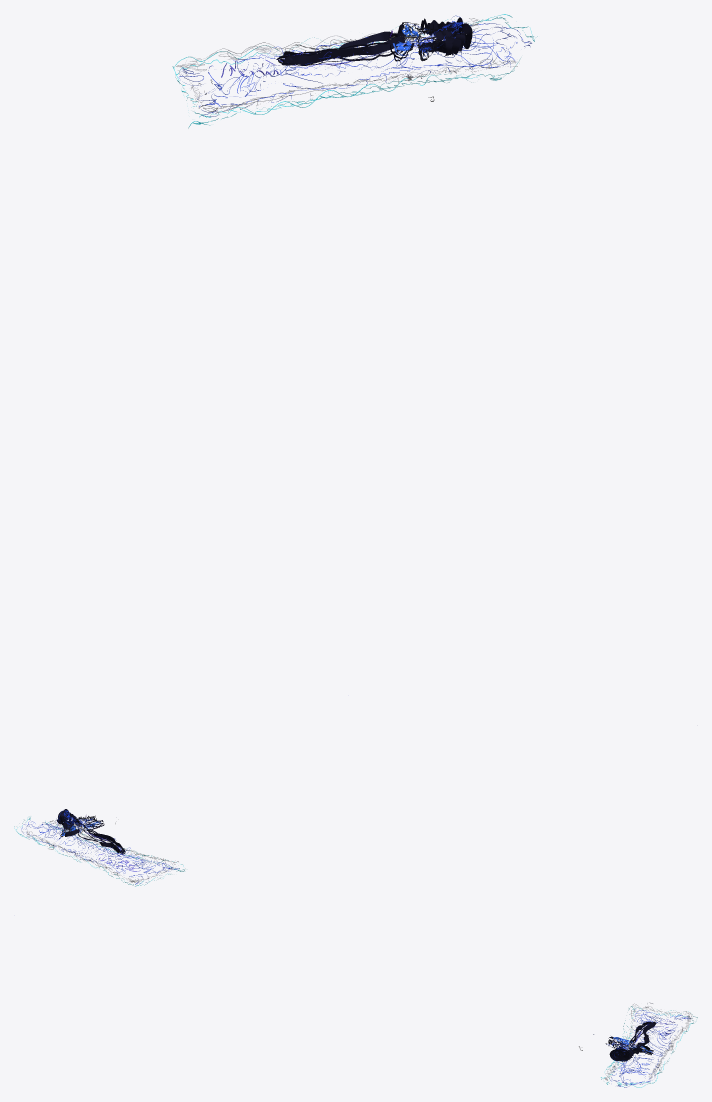
The picture shows the model from 3 angles, top to bottom: view 1: azimuth 30°, elevation 25°; view 2: azimuth 150°, elevation 25°; view 3: azimuth 270°, elevation 25°; orthographic projection. The views are drawn at different scales.
Parts seen in each view (by area): view 1: brush_Marker_g0_b1_9, brush_Light_g0_b2_5, brush_Marker_g0_b0_8, brush_Light_g0_b1_4, brush_Light_g0_b3_6; view 2: brush_Light_g0_b2_5, brush_Marker_g0_b0_8, brush_Marker_g0_b1_9, brush_Light_g0_b1_4, brush_Light_g0_b3_6; view 3: brush_Light_g0_b2_5, brush_Marker_g0_b0_8, brush_Light_g0_b3_6, brush_Light_g0_b1_4, brush_Marker_g0_b1_9.
Part boxes in pixels (x1,y1,x2,y2): brush_Marker_g0_b1_9: (281, 18, 456, 65); brush_Light_g0_b2_5: (205, 23, 531, 106); brush_Marker_g0_b0_8: (276, 17, 472, 65); brush_Light_g0_b1_4: (172, 14, 537, 128); brush_Light_g0_b3_6: (176, 18, 519, 112); brush_Light_g0_b2_5: (21, 819, 169, 876); brush_Marker_g0_b0_8: (56, 809, 125, 854); brush_Marker_g0_b1_9: (60, 813, 124, 853); brush_Light_g0_b1_4: (14, 810, 184, 886); brush_Light_g0_b3_6: (27, 820, 178, 882); brush_Light_g0_b2_5: (610, 1010, 682, 1087); brush_Marker_g0_b0_8: (605, 1022, 656, 1061); brush_Light_g0_b3_6: (604, 1003, 691, 1080); brush_Light_g0_b1_4: (601, 1006, 697, 1087); brush_Marker_g0_b1_9: (616, 1021, 655, 1061).
Bounding box in the file's own units: 5.72 × 0.6184 × 8.39.
5 materials, 4 textured.
